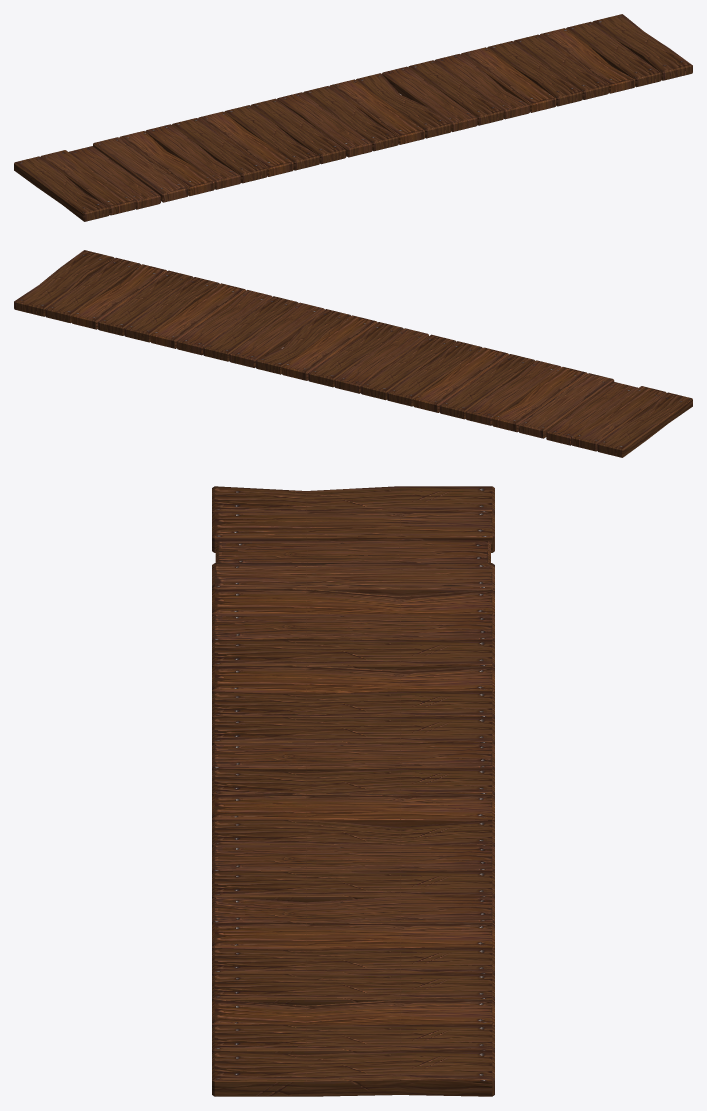
File: Balcony_Floor.fbx
3 renders of one model, top to bottom at view 1: azimuth 30°, elevation 25°; view 2: azimuth 150°, elevation 25°; view 3: azimuth 270°, elevation 25°, orthographic. The views are drawn at different scales.
Parts seen in each view (by area): view 1: 1_Balcony_Floor; view 2: 1_Balcony_Floor; view 3: 1_Balcony_Floor.
Part boxes in pixels (x1,y1,x2,y2): 1_Balcony_Floor: (14,14,692,221); 1_Balcony_Floor: (14,250,692,457); 1_Balcony_Floor: (212,486,494,1096).
Size of the model in its own units: 1243 by 22.2 by 250.
